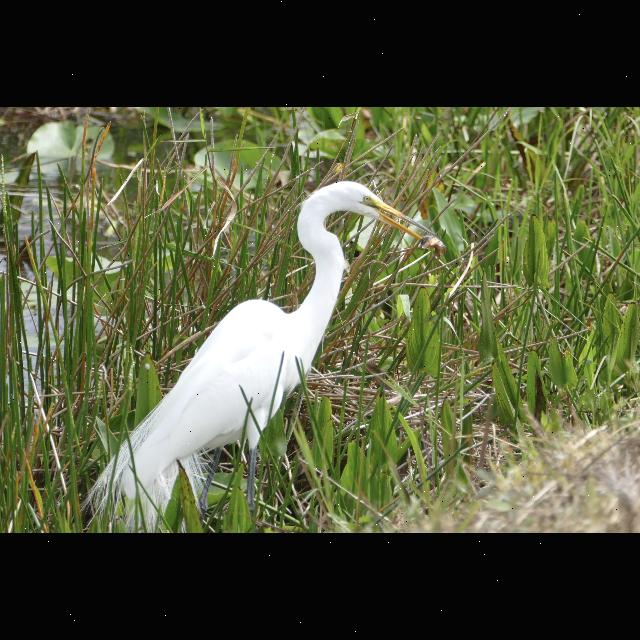egret: (74, 174, 443, 534)
